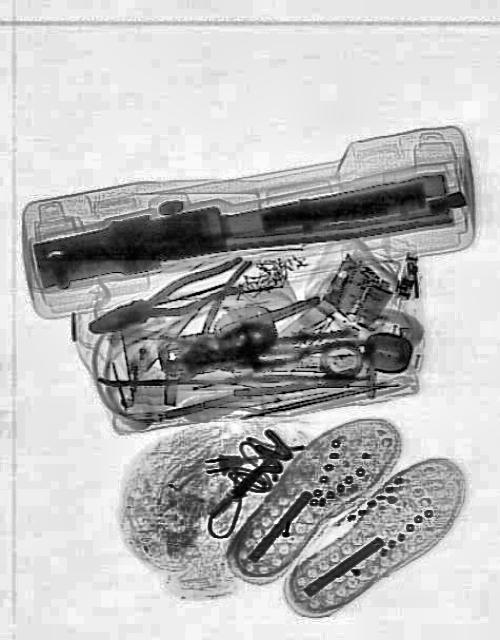Pliers: (151, 286, 371, 396), (84, 253, 250, 345)
